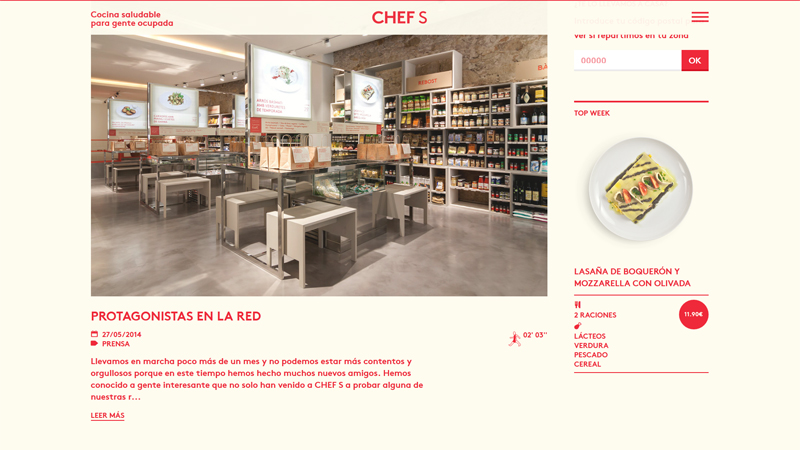Image: (88, 31, 549, 293)
Side Bar: (563, 0, 721, 449)
